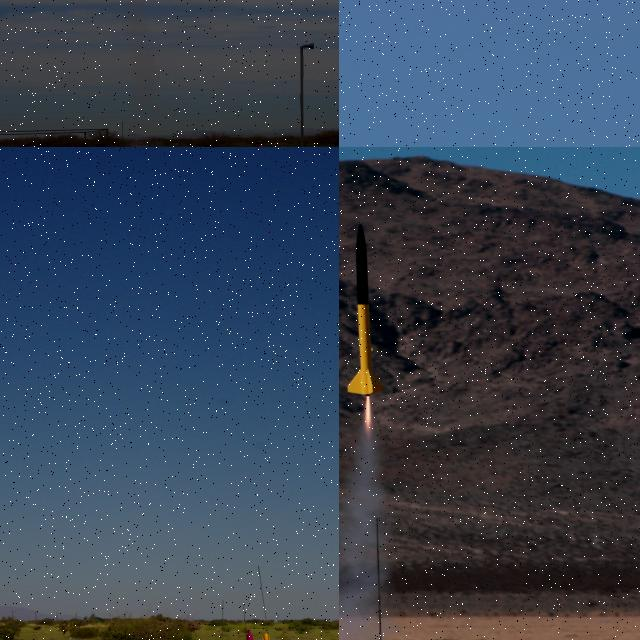Rocket: (346, 220, 384, 398), (241, 629, 263, 640), (260, 632, 286, 640)
